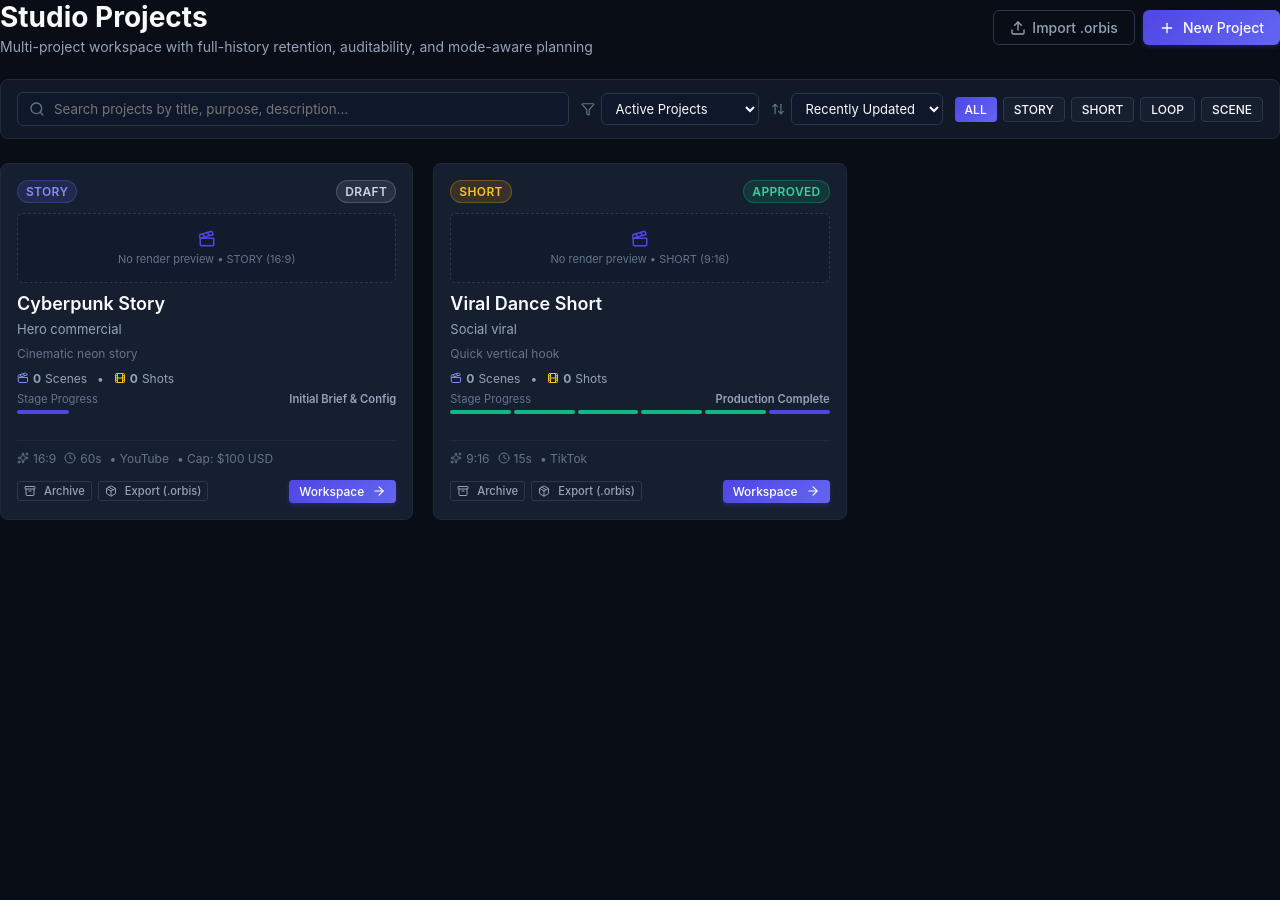
Test: ProjectDashboard › renders Import .orbis button and opens ImportProjectModal on click
Click the button with test id "import-project-btn".
click(1064, 28)  # box [993, 10, 1135, 45]
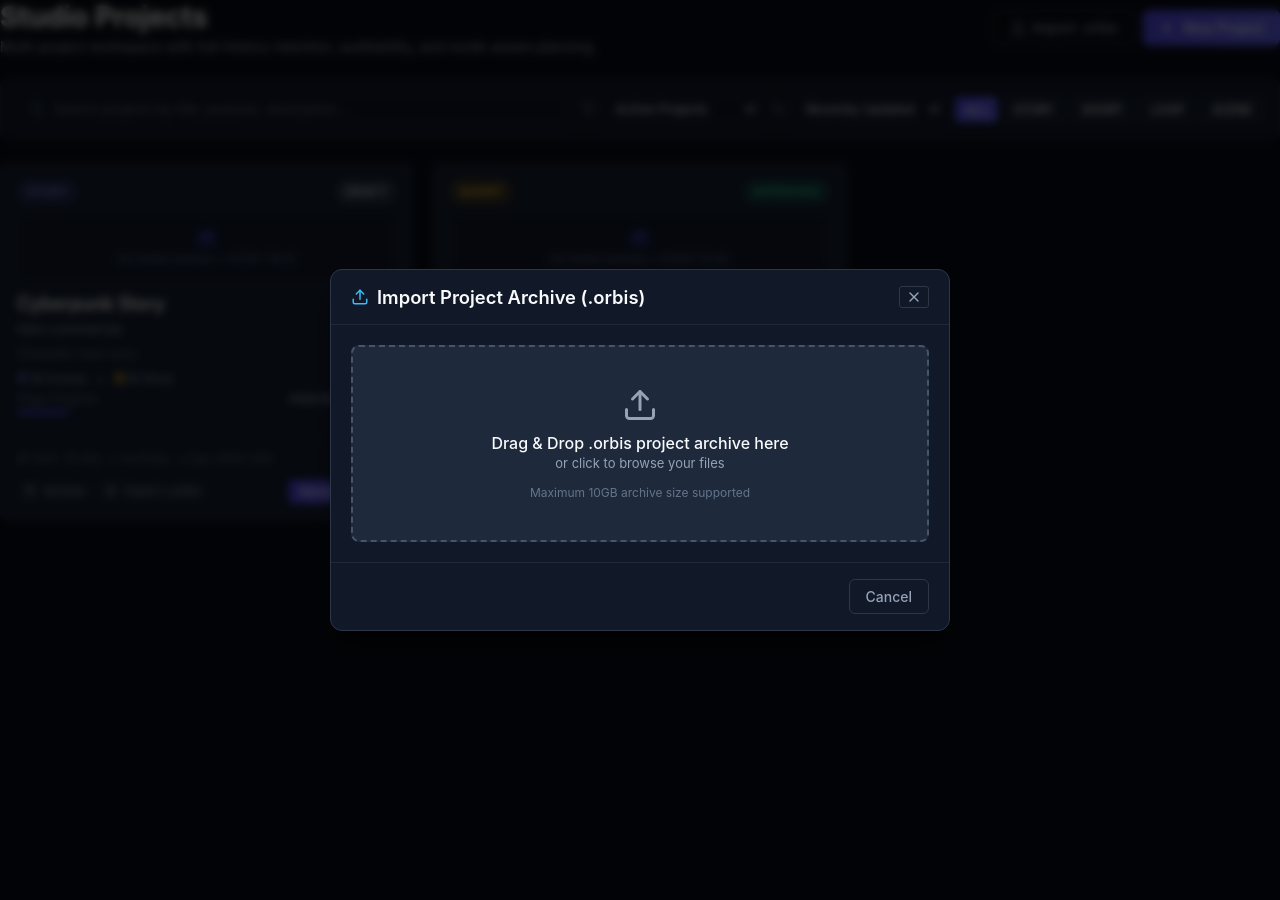
Check: the element with test id "import-project-modal" is shown
Check: the heading "Import Project Archive (.orbis)" is shown, box [377, 286, 645, 308]
